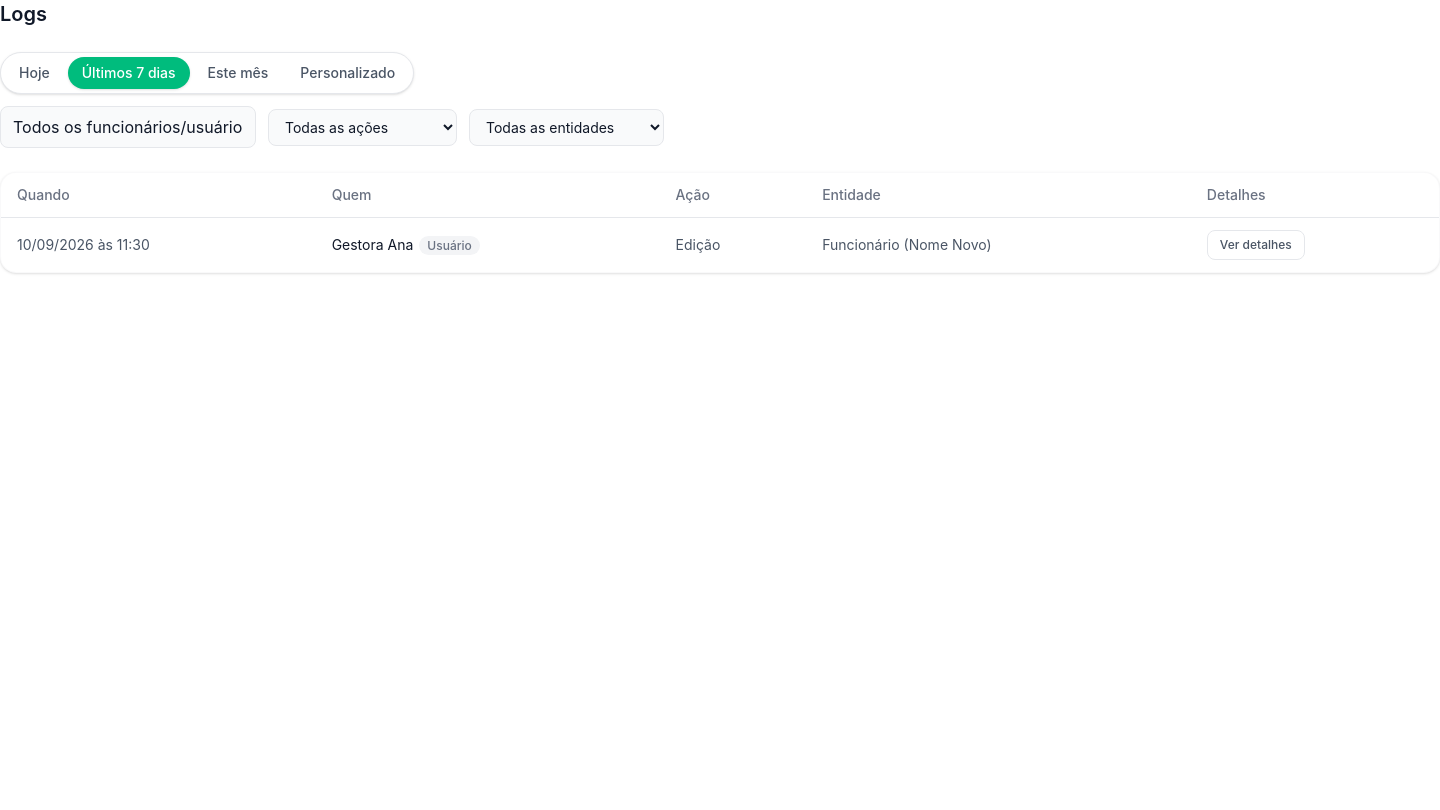
Test case: AuditPage › "Ver detalhes" abre o modal com a comparação antes/depois
The image size is (1440, 810).
Click the button "Ver detalhes" at (1256, 245), box x1=1207 y1=230 x2=1305 y2=260
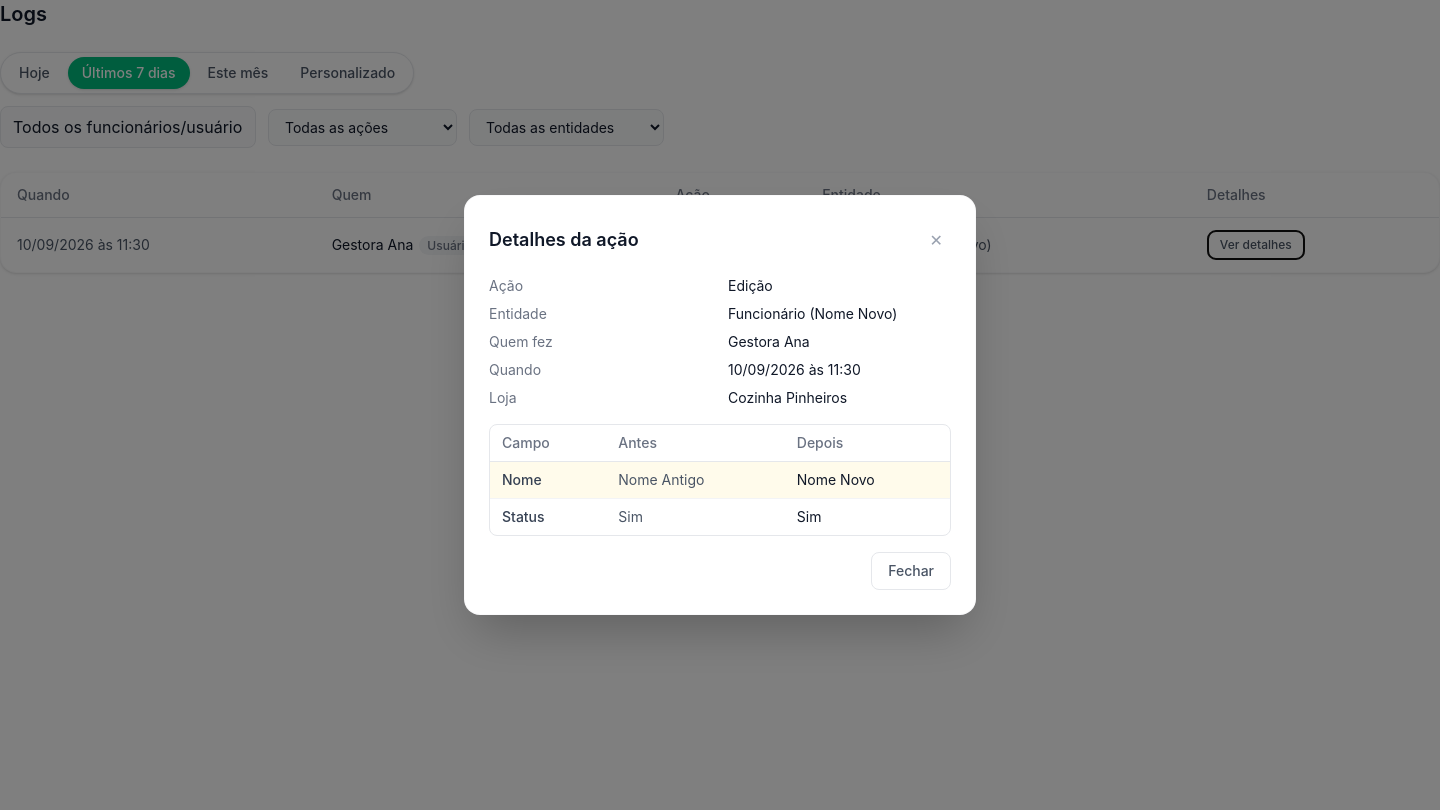
Check: the heading "Detalhes da ação" is shown, box x1=489 y1=226 x2=639 y2=254
Check: the text "Nome Antigo" is shown, box x1=606 y1=462 x2=785 y2=498
Check: the text "Nome Novo" is shown, box x1=785 y1=462 x2=950 y2=498
